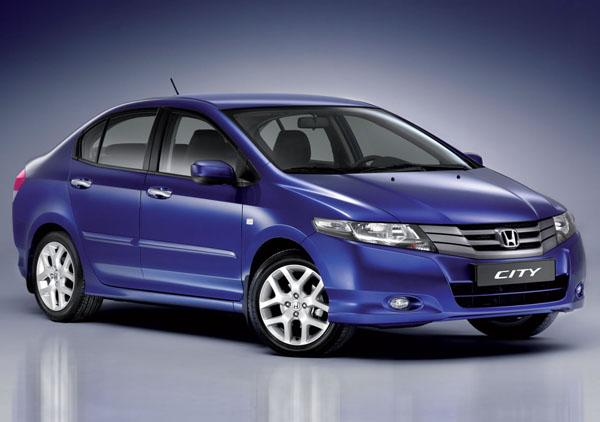windshield: (220, 107, 488, 177)
